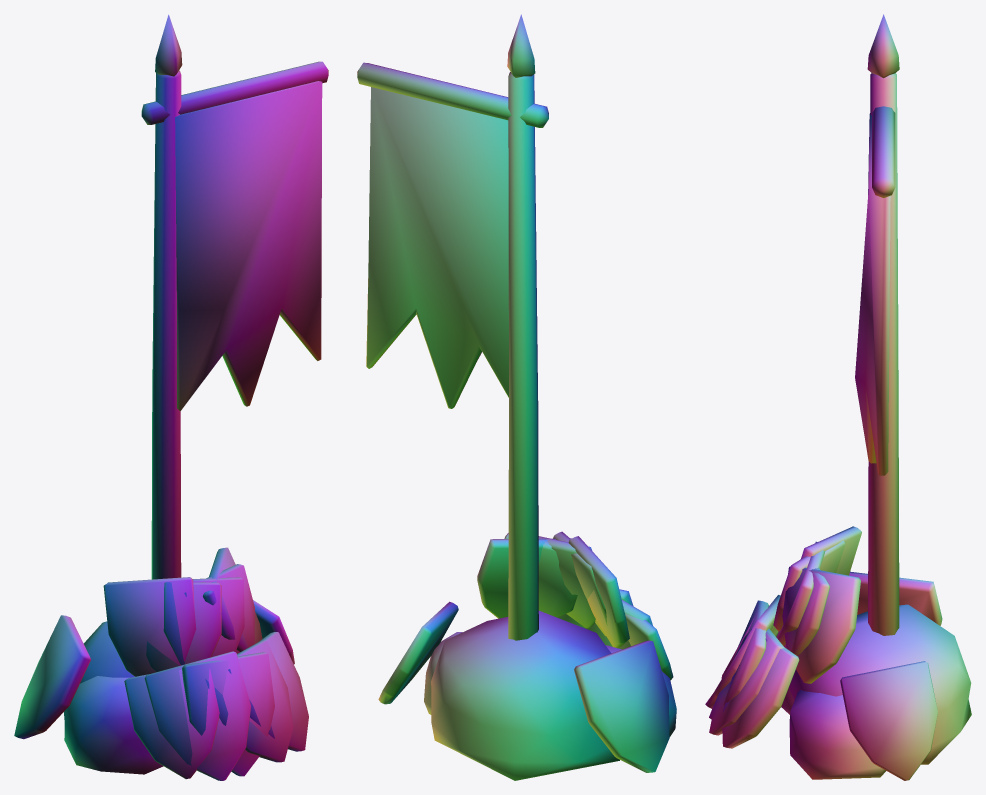
The model's file is SM_Prop_March_RedBanner.fbx.
The picture shows the model from 3 angles, left to right: view 1: azimuth 30°, elevation 25°; view 2: azimuth 150°, elevation 25°; view 3: azimuth 270°, elevation 25°; orthographic projection. The views are drawn at different scales.
Visible parts, largest first — view 1: SM_Prop_March_RedBanner; view 2: SM_Prop_March_RedBanner; view 3: SM_Prop_March_RedBanner.
Boxes of the visible parts, left/top/right/bottom form: SM_Prop_March_RedBanner: left=14, top=14, right=328, bottom=780; SM_Prop_March_RedBanner: left=357, top=14, right=676, bottom=780; SM_Prop_March_RedBanner: left=705, top=14, right=971, bottom=780.
Bounding box in the file's own units: 1.37 × 3.05 × 1.02.
